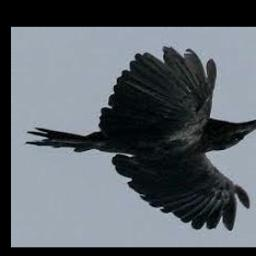Crow: (24, 46, 256, 230)
